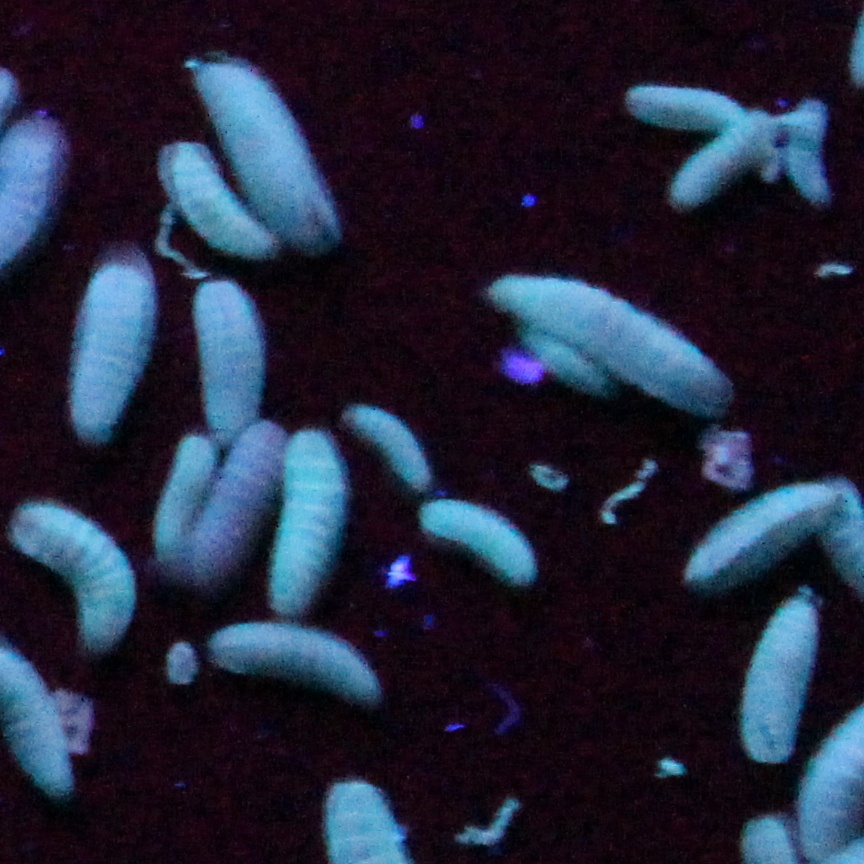larve: (490, 260, 729, 423), (194, 50, 333, 247), (2, 497, 139, 644), (690, 473, 835, 582), (149, 142, 281, 261), (196, 417, 278, 586), (202, 619, 378, 693), (84, 249, 148, 444), (426, 490, 550, 585), (198, 268, 257, 438), (287, 432, 343, 609), (671, 112, 762, 205), (758, 587, 804, 764), (622, 68, 745, 128), (350, 401, 435, 486), (168, 429, 208, 567), (787, 108, 829, 217)
